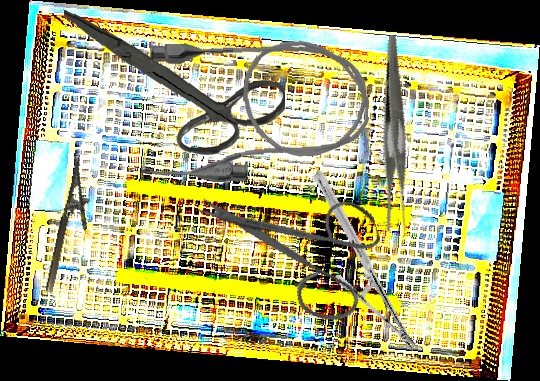Cannula: (134, 34, 372, 186)
Dressing Forceps: (335, 34, 459, 236)
Iris Scissors: (195, 152, 399, 350), (63, 0, 287, 160)
Needle Holder: (262, 169, 468, 352), (43, 152, 103, 298)
